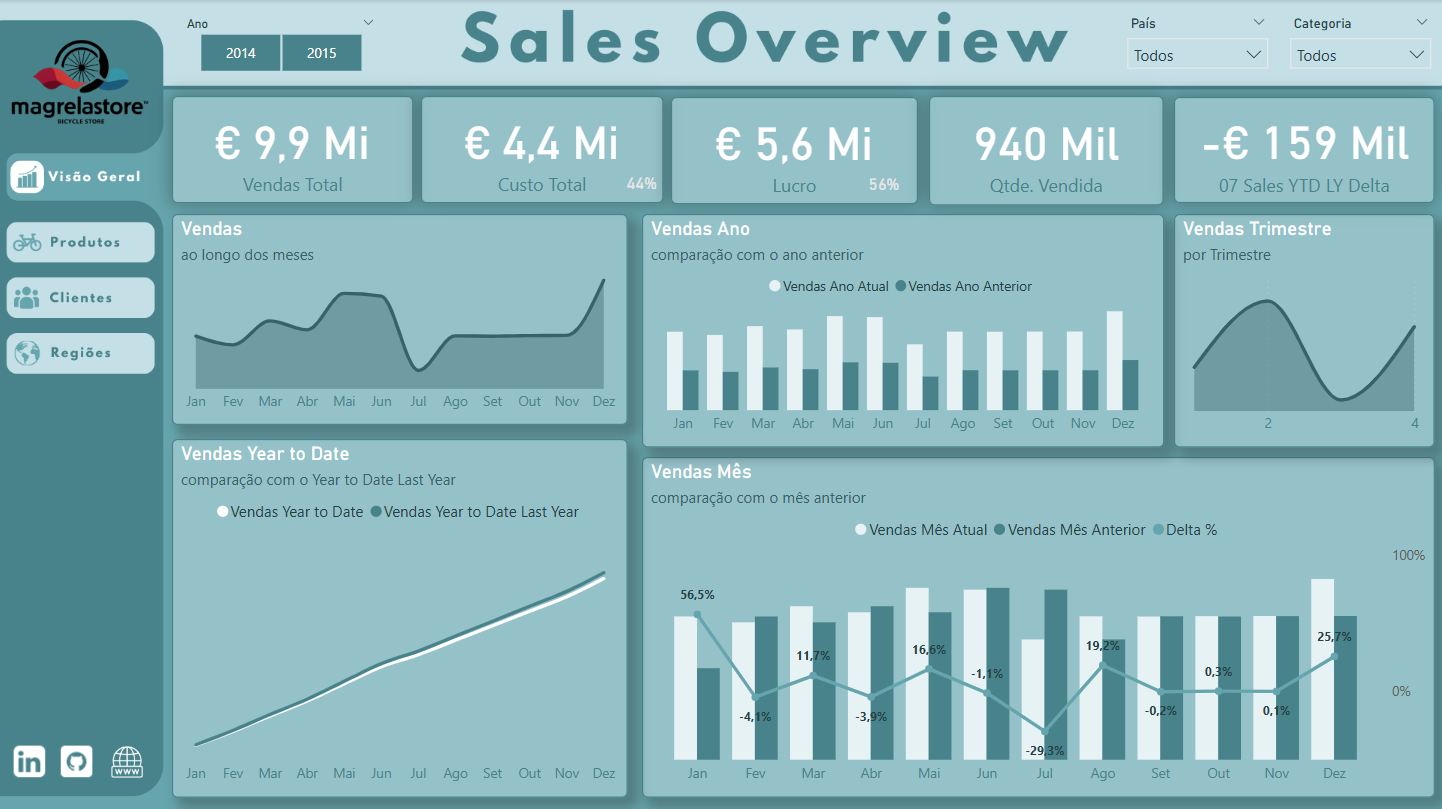

The dashboard page shown, as its layout file describes it:
{"tool":"powerbi","page":{"name":"Visão Geral","canvas":[1280,720],"ordinal":0},"visuals":[{"type":"card","fields":{"Values":["#Medidas.01 Vendas Totais"]},"box":[153.3,85.5,214.4,95],"z":0},{"type":"card","fields":{"Values":["#Medidas.02 Custo Total"]},"box":[374.3,85.5,215.4,95],"z":1000},{"type":"card","fields":{"Values":["#Medidas.03 Lucro"]},"box":[596.3,86.4,219.1,95],"z":2000},{"type":"card","fields":{"Values":["#Medidas.04 Margem Lucro %"]},"box":[764.6,148.5,40.4,32.9],"z":3000},{"type":"card","fields":{"Values":["#Medidas.05 Margem Custo %"]},"box":[543.6,145.7,52.7,35.7],"z":4000},{"type":"card","fields":{"Values":["#Medidas.06 Qtde. Vendida"]},"box":[824.6,85.1,208.4,96.7],"z":5000},{"type":"areaChart","title":"Vendas ","fields":{"Category":["Dim_Dates.Mes Abrv"],"Y":["#Medidas.01 Vendas Totais"]},"box":[153.3,189.9,404.4,187.2],"z":6000},{"type":"lineClusteredColumnComboChart","title":"Vendas Mês","fields":{"Category":["Dim_Dates.Mes Abrv"],"Y":["#Medidas.01 Vendas Totais","#Inteligencia Temporal.01 Sales LM"],"Y2":["#Inteligencia Temporal.03 Sales LM Delta %"]},"box":[569.9,405.2,703.5,301.9],"z":7000},{"type":"clusteredColumnChart","title":"Vendas Ano","fields":{"Category":["Dim_Dates.Mes Abrv"],"Y":["#Medidas.01 Vendas Totais","#Inteligencia Temporal.04 Sales LY"]},"box":[569.9,189.9,462.7,206.9],"z":8000},{"type":"lineChart","title":"Vendas Year to Date","fields":{"Category":["Dim_Dates.Mes Abrv"],"Y":["#Inteligencia Temporal.03 Sales YTD","#Inteligencia Temporal.04 Sales YTD LY"]},"box":[153.3,389.3,404.4,317.9],"z":9000},{"type":"areaChart","fields":{"Category":["Dim_Dates.Trimestre"],"Y":["#Medidas.01 Vendas Totais"]},"box":[1042,189.9,231.4,206.9],"z":10000},{"type":"card","fields":{"Values":["#Inteligencia Temporal.07 Sales YTD LY Delta"]},"box":[1042,86.4,231.4,94],"z":11000},{"type":"slicer","fields":{"Values":["Dim_Dates.Ano"]},"box":[153.4,9.8,191.5,60.3],"z":12000},{"type":"slicer","fields":{"Values":["Dim_Geographic.Country"]},"box":[990.3,8.5,144.8,61.1],"z":13000},{"type":"slicer","fields":{"Values":["Dim_Product.Product_Category"]},"box":[1135.2,8.5,144.8,61.1],"z":14000},{"type":"actionButton","box":[0,196,141,39.9],"z":15000},{"type":"actionButton","box":[0,243.8,141,39.9],"z":16000},{"type":"actionButton","box":[0,293.5,141,39.9],"z":17000},{"type":"image","box":[8,656.2,38.1,38.1],"z":18000},{"type":"image","box":[48.8,656.2,40.8,38.1],"z":19000},{"type":"image","box":[89.6,644.6,47.9,62.1],"z":20000},{"type":"actionButton","box":[0,654.4,46.1,39.9],"z":21000},{"type":"actionButton","box":[48.8,655.3,40.8,39.9],"z":22000},{"type":"actionButton","box":[89.6,654.4,47.9,40.8],"z":23000}]}

Visuals, with their boxes in screenshot pixels (x1, y1, x2, y2), scaled from the page's 1280x720 canvas onto the 1442x809 screenshot:
card - #Medidas.01 Vendas Totais: [left=173, top=96, right=414, bottom=203]
card - #Medidas.02 Custo Total: [left=422, top=96, right=664, bottom=203]
card - #Medidas.03 Lucro: [left=672, top=97, right=919, bottom=204]
card - #Medidas.04 Margem Lucro %: [left=861, top=167, right=907, bottom=204]
card - #Medidas.05 Margem Custo %: [left=612, top=164, right=672, bottom=204]
card - #Medidas.06 Qtde. Vendida: [left=929, top=96, right=1164, bottom=204]
"Vendas " areaChart: [left=173, top=213, right=628, bottom=424]
"Vendas Mês" lineClusteredColumnComboChart: [left=642, top=455, right=1435, bottom=795]
"Vendas Ano" clusteredColumnChart: [left=642, top=213, right=1163, bottom=446]
"Vendas Year to Date" lineChart: [left=173, top=437, right=628, bottom=795]
areaChart - Dim_Dates.Trimestre x #Medidas.01 Vendas Totais: [left=1174, top=213, right=1435, bottom=446]
card - #Inteligencia Temporal.07 Sales YTD LY Delta: [left=1174, top=97, right=1435, bottom=203]
slicer - Dim_Dates.Ano: [left=173, top=11, right=389, bottom=79]
slicer - Dim_Geographic.Country: [left=1116, top=10, right=1279, bottom=78]
slicer - Dim_Product.Product_Category: [left=1279, top=10, right=1441, bottom=78]
actionButton: [left=0, top=220, right=159, bottom=265]
actionButton: [left=0, top=274, right=159, bottom=319]
actionButton: [left=0, top=330, right=159, bottom=375]
image: [left=9, top=737, right=52, bottom=780]
image: [left=55, top=737, right=101, bottom=780]
image: [left=101, top=724, right=155, bottom=794]
actionButton: [left=0, top=735, right=52, bottom=780]
actionButton: [left=55, top=736, right=101, bottom=781]
actionButton: [left=101, top=735, right=155, bottom=781]
